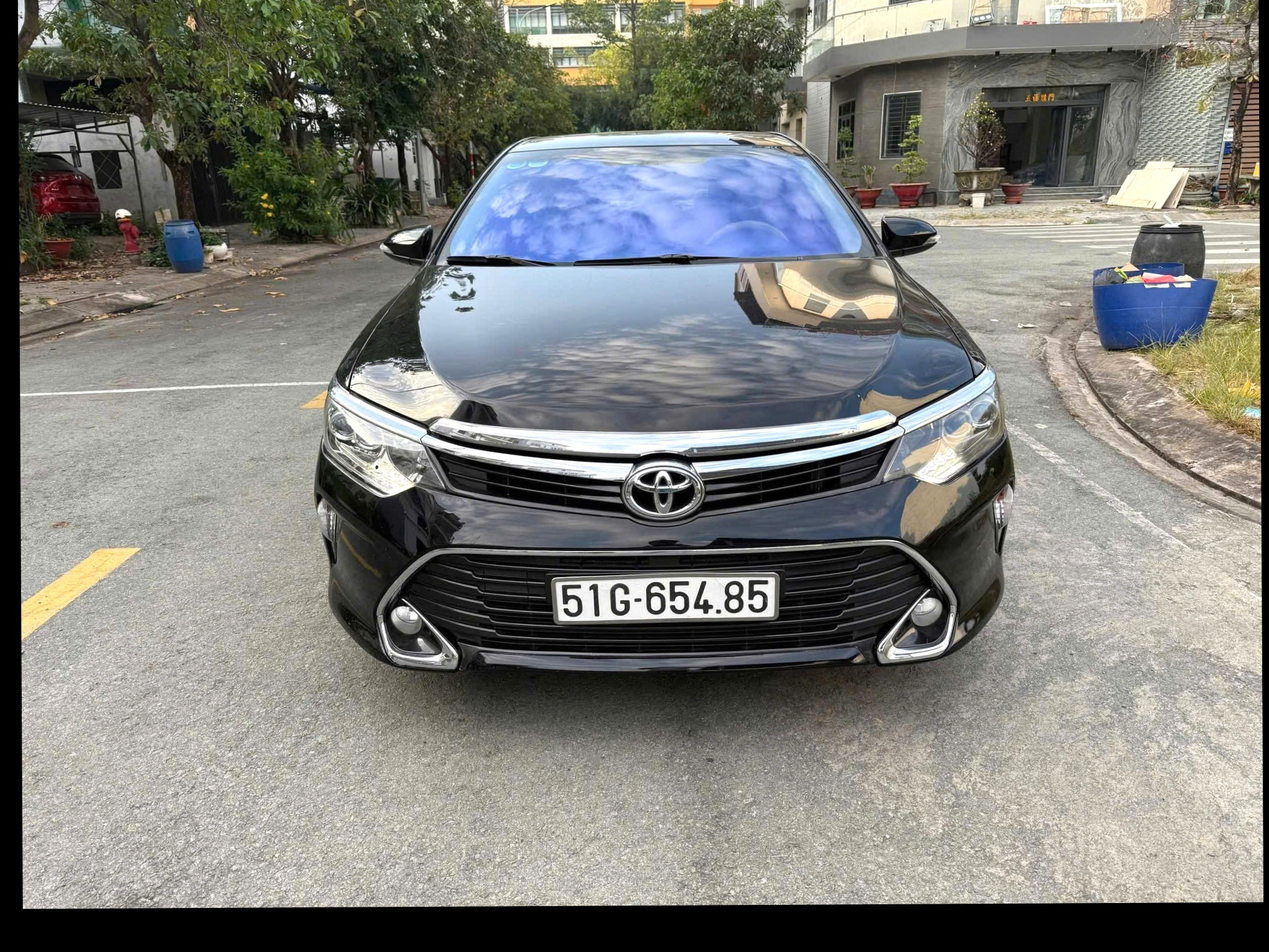Bien-so: (556, 575, 790, 623)
